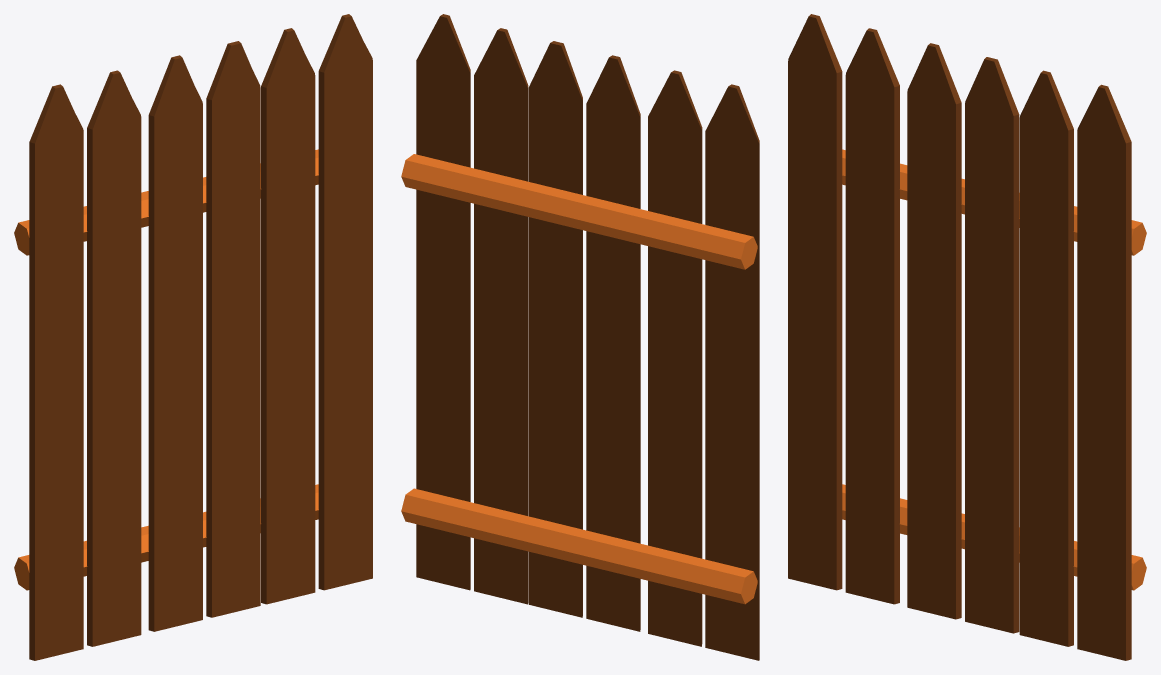
File: Zabor korotk .fbx
3 renders of one model, left to right at view 1: azimuth 30°, elevation 25°; view 2: azimuth 150°, elevation 25°; view 3: azimuth 330°, elevation 25°, orthographic.
Parts seen in each view (by area): view 1: Cube.001, Cylinder.002, Cylinder.003; view 2: Cube.001, Cylinder.003, Cylinder.002; view 3: Cube.001, Cylinder.002, Cylinder.003.
Boxes of the visible parts, x1,y1,x2,y2 form: Cube.001: (29,14,372,660); Cylinder.002: (14,149,318,255); Cylinder.003: (14,484,318,590); Cube.001: (416,14,759,660); Cylinder.003: (401,488,757,604); Cylinder.002: (401,154,757,269); Cube.001: (788,14,1131,660); Cylinder.002: (842,149,1146,255); Cylinder.003: (842,484,1146,590).
Size of the model in its own units: 579 by 915 by 58.26.
